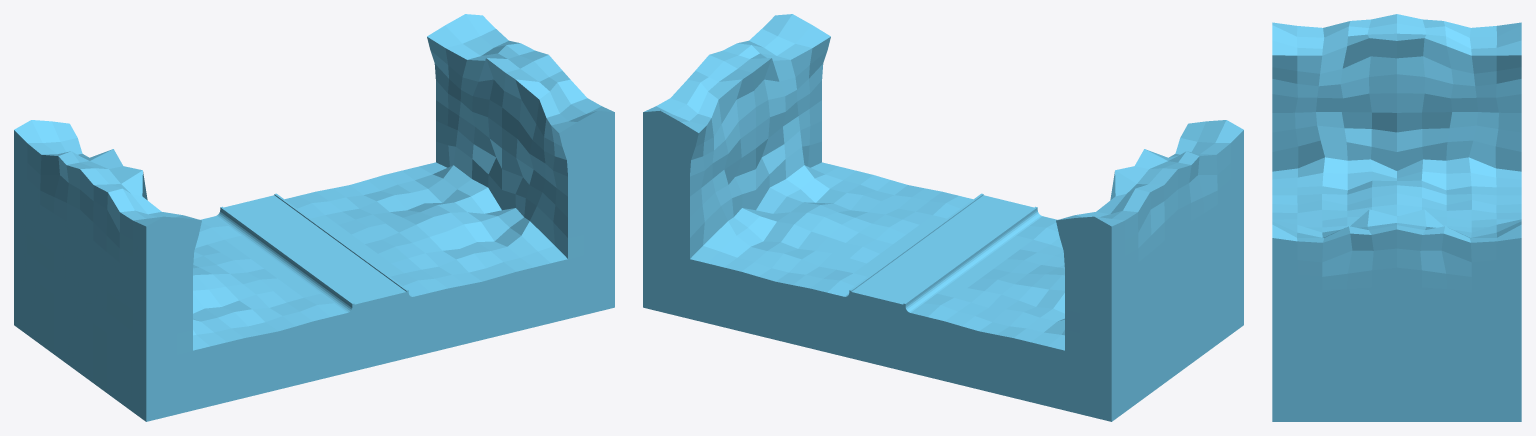
Rendered from Level1.fbx.
3 renders of one model, left to right at view 1: azimuth 30°, elevation 25°; view 2: azimuth 150°, elevation 25°; view 3: azimuth 270°, elevation 25°, orthographic. The views are drawn at different scales.
Parts seen in each view (by area): view 1: Level1; view 2: Level1; view 3: Level1.
Part boxes in pixels (left/top/right/bottom): Level1: left=14, top=14, right=614, bottom=421; Level1: left=643, top=14, right=1243, bottom=421; Level1: left=1272, top=14, right=1521, bottom=421.
Bounding box in the file's own units: 2400 × 2047 × 4915.
